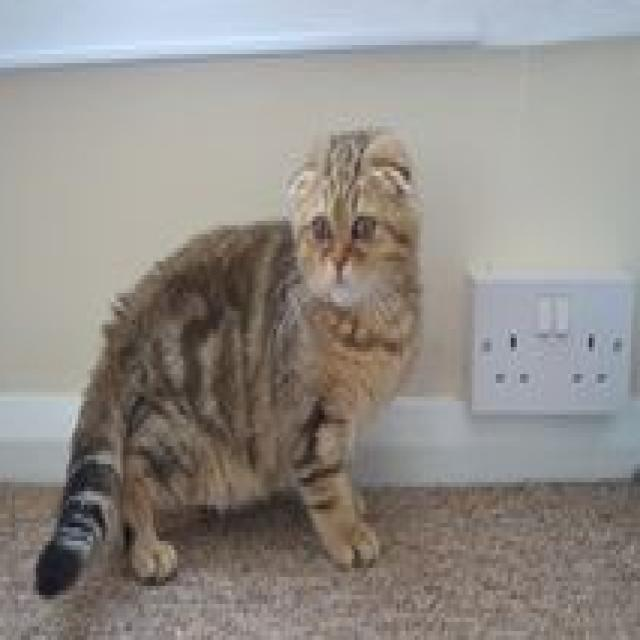Scottish Fold: (32, 124, 428, 606)
